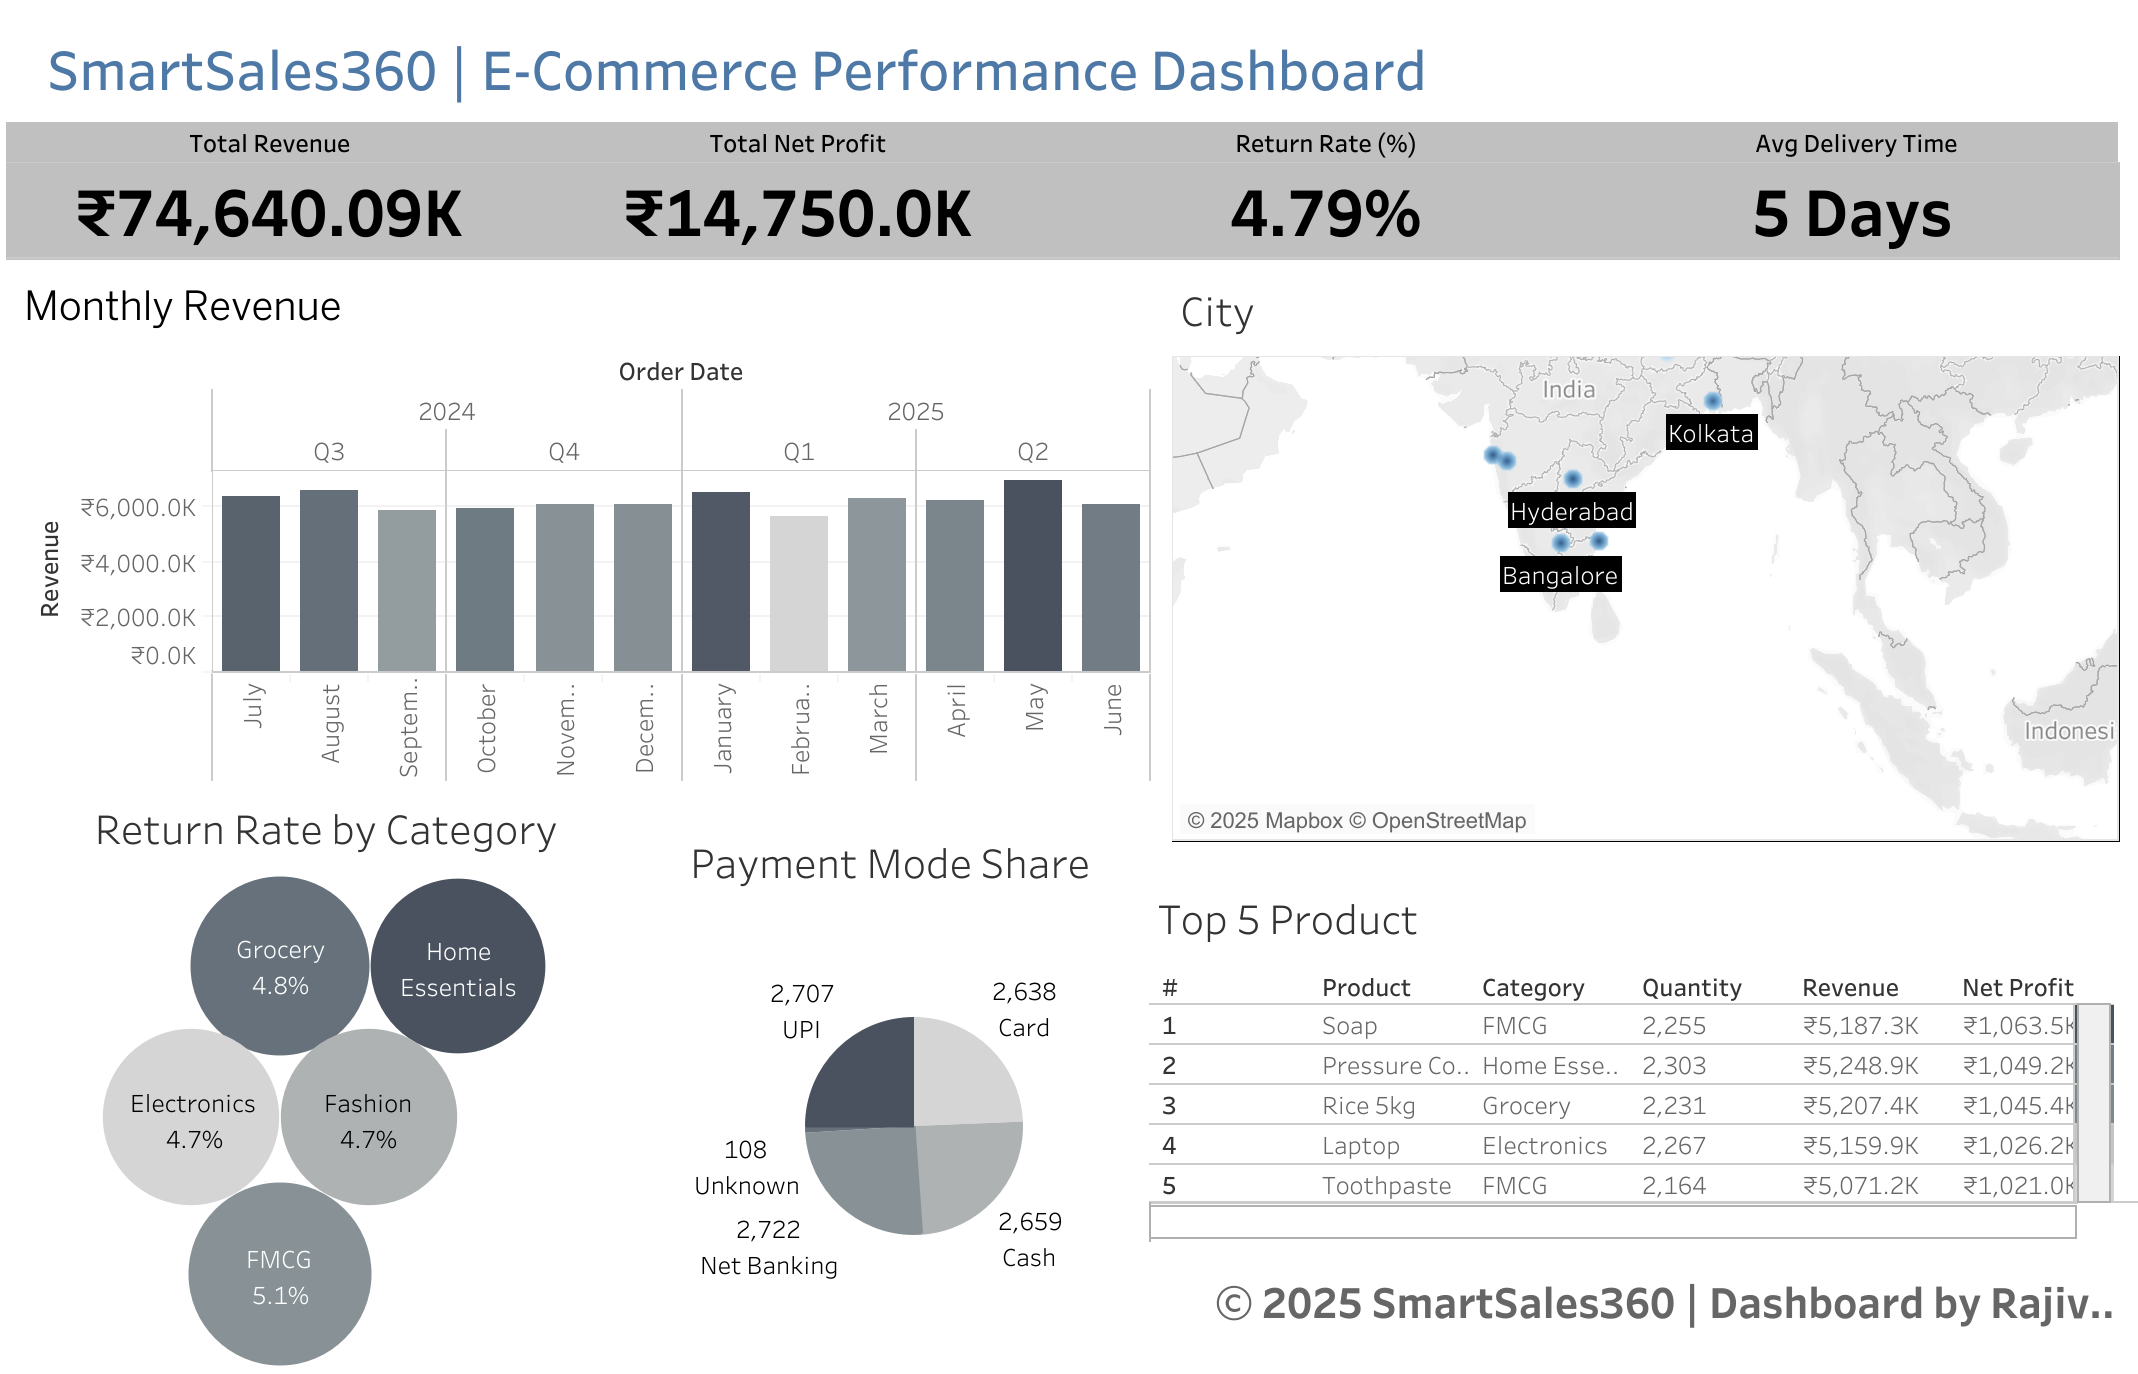

The dashboard page shown, as its layout file describes it:
{"tool":"tableau","page":{"name":"SmartSales360 Dashboard","canvas":[1000,1000],"units":"permille","ordinal":0},"visuals":[{"type":"text","box":[15.5,9.1,978.8,79.4]},{"type":"worksheet","title":"KPI banner","mark":"Automatic","box":[2.4,88.5,987.8,100.3]},{"type":"worksheet","title":"Monthly Revenue","mark":"Bar","rows":["revenue"],"cols":["order_date","order_date","order_date"],"box":[7.3,194,531.3,376.3]},{"type":"worksheet","title":"City","mark":"Heatmap","box":[547.6,196.6,442.6,415.4]},{"type":"worksheet","title":" Return Rate by Category","mark":"Circle","box":[36.6,572.9,255.5,419.3]},{"type":"worksheet","title":"Payment Mode Share","mark":"Pie","box":[319,597.7,216.4,378.9]},{"type":"worksheet","title":"Top 5 Product ","mark":"Automatic","rows":["Calculation_342906925238046722","product_name","product_category","quantity","revenue","net_profit","Calculation_315463114988437506"],"box":[537.8,638,449.2,263]},{"type":"text","box":[565.5,907.6,424.7,75.5]}]}

Visuals, with their boxes on the dashboard's canvas, which has no fixed pixel size, in thousandths of its width and height (x1, y1, x2, y2). These are canvas units, not pixel positions in the 2138x1374 screenshot, which may show the page scaled, cropped or inside an application window:
text: 16,9,994,88
"KPI banner" worksheet: 2,88,990,189
"Monthly Revenue" worksheet (Bar marks): 7,194,539,570
"City" worksheet (Heatmap marks): 548,197,990,612
" Return Rate by Category" worksheet (Circle marks): 37,573,292,992
"Payment Mode Share" worksheet (Pie marks): 319,598,535,977
"Top 5 Product " worksheet: 538,638,987,901
text: 566,908,990,983
